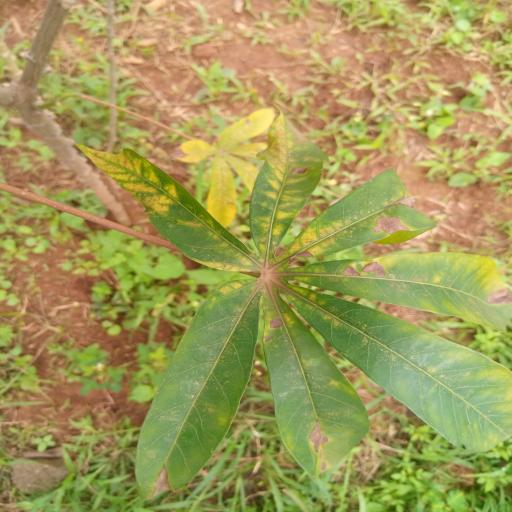Cassava_Mosaic: (79, 108, 512, 510)
